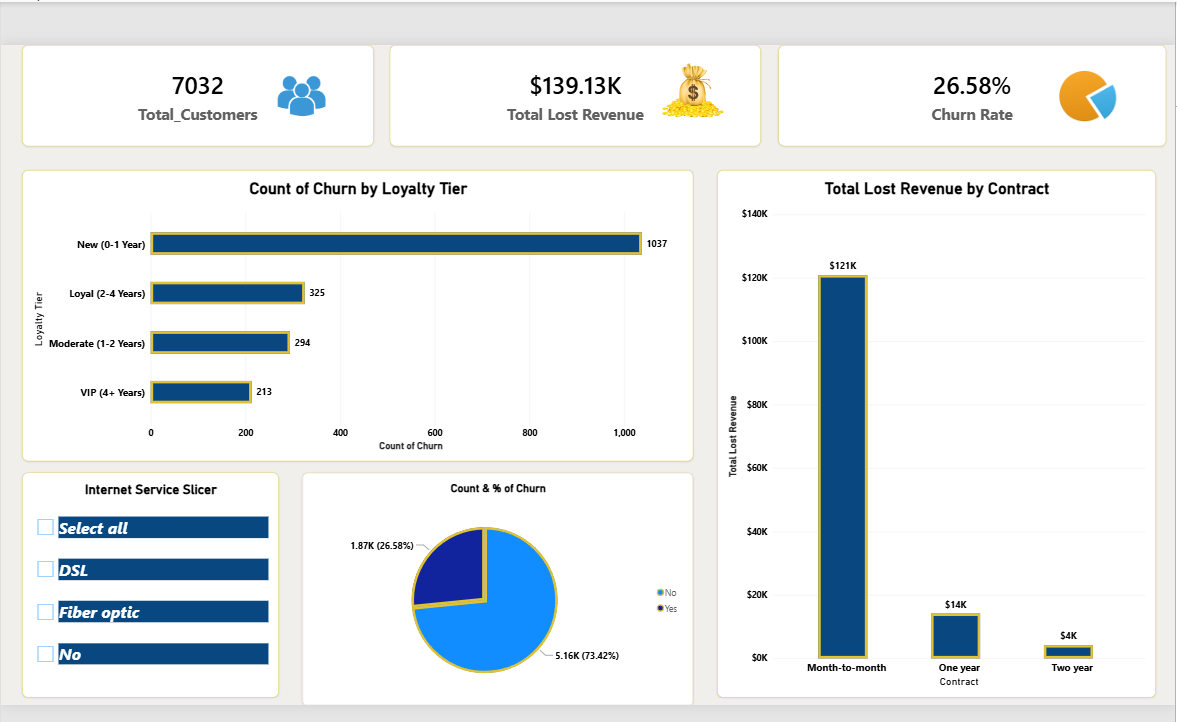

What the dashboard file says about the page in this screenshot:
{"tool":"powerbi","page":{"name":"Page 1","canvas":[1920,1080],"ordinal":0},"visuals":[{"type":"card","fields":{"Values":["Cutomer_churn_analysis_Cleaned_.Total_Customers"]},"box":[684.4,28.6,306.7,164.7],"z":0},{"type":"card","fields":{"Values":["Cutomer_churn_analysis_Cleaned_.Total Lost Revenue"]},"box":[685.4,207.9,306.7,179.1],"z":1000},{"type":"card","fields":{"Values":["Cutomer_churn_analysis_Cleaned_.Churn Rate"]},"box":[684.4,404.5,306.7,179.1],"z":2000},{"type":"pieChart","title":"Count & % of Churn","fields":{"Category":["Cutomer_churn_analysis_Cleaned_.Churn"],"Y":["CountNonNull(Cutomer_churn_analysis_Cleaned_.Churn)"]},"box":[255.2,734.8,689.5,345.8],"z":3000},{"type":"clusteredColumnChart","fields":{"Category":["Cutomer_churn_analysis_Cleaned_.Contract"],"Y":["Cutomer_churn_analysis_Cleaned_.Total Lost Revenue"]},"box":[1323.9,584.3,563.9,496.4],"z":4000},{"type":"clusteredBarChart","fields":{"Y":["CountNonNull(Cutomer_churn_analysis_Cleaned_.Churn)"],"Category":["Cutomer_churn_analysis_Cleaned_.Loyalty Tier"]},"box":[1047.7,28.8,839.8,539.3],"z":4001},{"type":"slicer","fields":{"Values":["Cutomer_churn_analysis_Cleaned_.InternetService"]},"box":[35,14.4,619.6,553.7],"z":4002},{"type":"image","box":[34.7,584.3,890.7,183.9],"z":4003}]}

Visuals, with their boxes on the page's 1920x1080 design canvas (x1, y1, x2, y2). These are canvas units, not pixel positions in the 1177x722 screenshot, which may show the page scaled, cropped or inside an application window:
card - Cutomer_churn_analysis_Cleaned_.Total_Customers: <box>684,29,991,193</box>
card - Cutomer_churn_analysis_Cleaned_.Total Lost Revenue: <box>685,208,992,387</box>
card - Cutomer_churn_analysis_Cleaned_.Churn Rate: <box>684,404,991,584</box>
"Count & % of Churn" pieChart: <box>255,735,945,1081</box>
clusteredColumnChart - Cutomer_churn_analysis_Cleaned_.Contract x Cutomer_churn_analysis_Cleaned_.Total Lost Revenue: <box>1324,584,1888,1081</box>
clusteredBarChart - CountNonNull(Cutomer_churn_analysis_Cleaned_.Churn) x Cutomer_churn_analysis_Cleaned_.Loyalty Tier: <box>1048,29,1888,568</box>
slicer - Cutomer_churn_analysis_Cleaned_.InternetService: <box>35,14,655,568</box>
image: <box>35,584,925,768</box>
